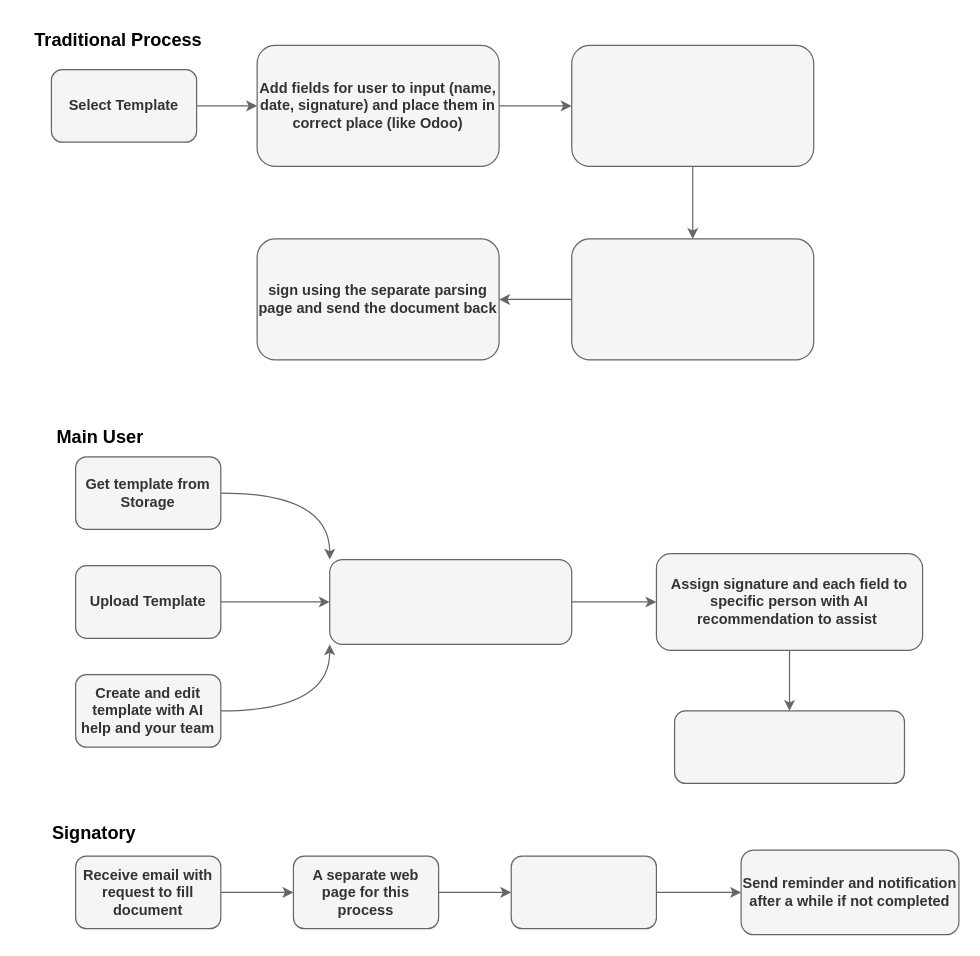
Some shapes in this 980 by 956 pixel diagram are drawn without their labels. Here are the shapes that lost their labels. From the top down, the box of each, then its label:
(571, 44, 814, 166): for each field added assign a specific person to fill them and send to mail
(571, 238, 814, 360): Monitor the status of the document from the dashboard
(329, 558, 572, 644): Add the fields where you want user input (name, date, signature
(673, 710, 904, 783): Monitor and track status of the document
(510, 855, 656, 929): Send back the finished document
